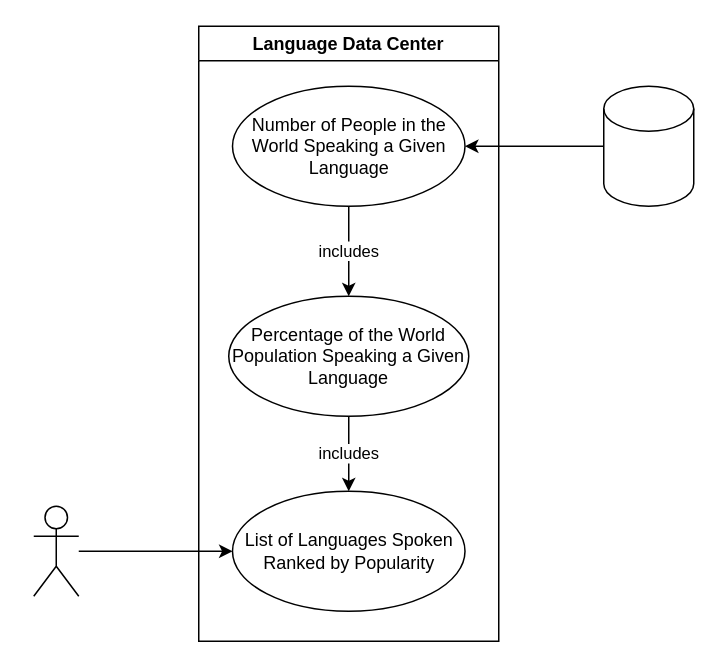
Some shapes in this 720 by 668 pixel diagram are drawn without their labels. The shapes that lost their labels are listed below. From the top down, each one's centre as x and y in pixels, then its label:
[648,145]: Database
[55,550]: Linguist
